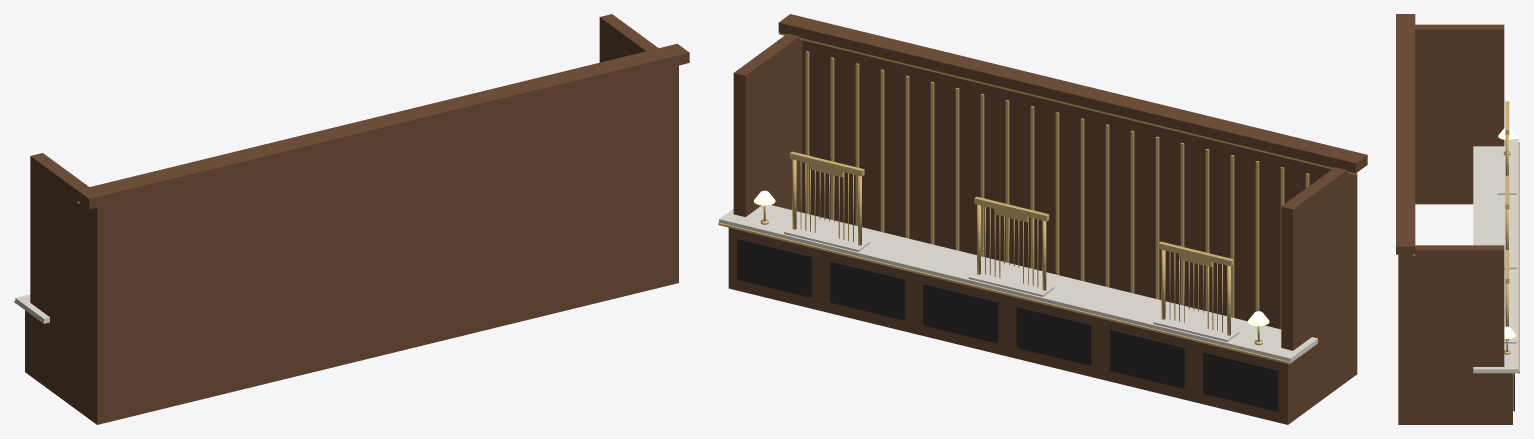
Rendered from cashier.glb.
3 views of the same model, side by side, from view 1: azimuth 30°, elevation 25°; view 2: azimuth 150°, elevation 25°; view 3: azimuth 270°, elevation 25° (orthographic). The views are drawn at different scales.
Visible parts, largest first — view 1: cshBack_wood, cshSide_wood, cshCornice_wood, cshSide_wood.001, cshBase_wood; view 2: cshBack_wood, cshBase_wood, cshSide_wood, cshTop_marbleL, cshCornice_wood, cshSide_wood.001, cshPanel_dark, cshPanel_dark.001, cshPanel_dark.002, cshPanel_dark.003, cshPanel_dark.004, cshPanel_dark.005 (+27 smaller); view 3: cshSide_wood.001, cshSide_wood, cshTop_marbleL, cshCornice_wood, cshBack_wood, cshBase_wood, cshSill_marbleL, cshTopEdge_brass, cshSill_marbleL.001, cshSill_marbleL.002, cshPost_brass.005, cshLintel_brass.001 (+4 smaller).
Boxes of the visible parts, left/top/right/bottom form: cshBack_wood: left=89, top=65, right=678, bottom=424; cshSide_wood: left=30, top=153, right=109, bottom=424; cshCornice_wood: left=77, top=43, right=689, bottom=209; cshSide_wood.001: left=599, top=14, right=678, bottom=285; cshBase_wood: left=25, top=310, right=45, bottom=382; cshBack_wood: left=802, top=40, right=1357, bottom=372; cshBase_wood: left=728, top=227, right=1292, bottom=424; cshSide_wood: left=1281, top=167, right=1357, bottom=420; cshTop_marbleL: left=719, top=205, right=1317, bottom=362; cshCornice_wood: left=778, top=14, right=1367, bottom=173; cshSide_wood.001: left=733, top=33, right=802, bottom=216; cshPanel_dark: left=1203, top=352, right=1278, bottom=411; cshPanel_dark.001: left=1110, top=329, right=1185, bottom=388; cshPanel_dark.002: left=1016, top=306, right=1091, bottom=365; cshPanel_dark.003: left=923, top=283, right=998, bottom=343; cshPanel_dark.004: left=830, top=261, right=905, bottom=320; cshPanel_dark.005: left=737, top=238, right=812, bottom=297; cshSide_wood.001: left=1398, top=245, right=1504, bottom=424; cshSide_wood: left=1415, top=24, right=1504, bottom=204; cshTop_marbleL: left=1473, top=139, right=1518, bottom=373; cshCornice_wood: left=1396, top=14, right=1415, bottom=254; cshBack_wood: left=1398, top=254, right=1410, bottom=424; cshBase_wood: left=1479, top=373, right=1512, bottom=424; cshSill_marbleL: left=1497, top=163, right=1516, bottom=194; cshTopEdge_brass: left=1518, top=142, right=1519, bottom=373; cshSill_marbleL.001: left=1497, top=237, right=1516, bottom=269; cshSill_marbleL.002: left=1504, top=312, right=1516, bottom=343; cshPost_brass.005: left=1505, top=283, right=1508, bottom=340; cshLintel_brass.001: left=1505, top=175, right=1509, bottom=209.
Size of the model in its own units: 9.7 by 3.54 by 2.19.
